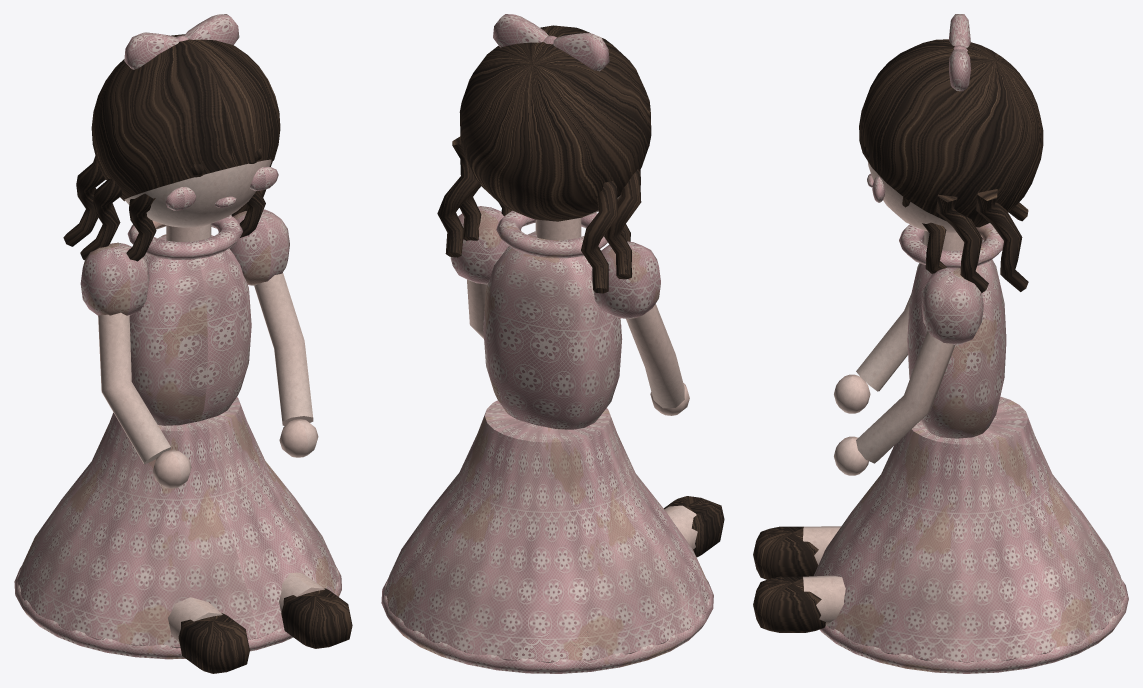
Rendered from bed_doll.obj.
The picture shows the model from 3 angles, left to right: view 1: azimuth 30°, elevation 25°; view 2: azimuth 150°, elevation 25°; view 3: azimuth 270°, elevation 25°; orthographic projection.
Visible parts, largest first — view 1: bed_doll_doll_dress, bed_doll_hair, bed_doll_skin; view 2: bed_doll_doll_dress, bed_doll_hair, bed_doll_skin; view 3: bed_doll_doll_dress, bed_doll_hair, bed_doll_skin.
Boxes of the visible parts, x1,y1,x2,y2 form: bed_doll_doll_dress: (14,14,341,659); bed_doll_hair: (63,34,352,673); bed_doll_skin: (98,159,324,643); bed_doll_doll_dress: (381,14,713,673); bed_doll_hair: (437,25,724,557); bed_doll_skin: (467,195,697,549); bed_doll_doll_dress: (814,14,1128,673); bed_doll_hair: (753,39,1043,632); bed_doll_skin: (803,162,964,626).
Size of the model in its own units: 0.22 by 0.42 by 0.25.
3 materials, 3 textured.
